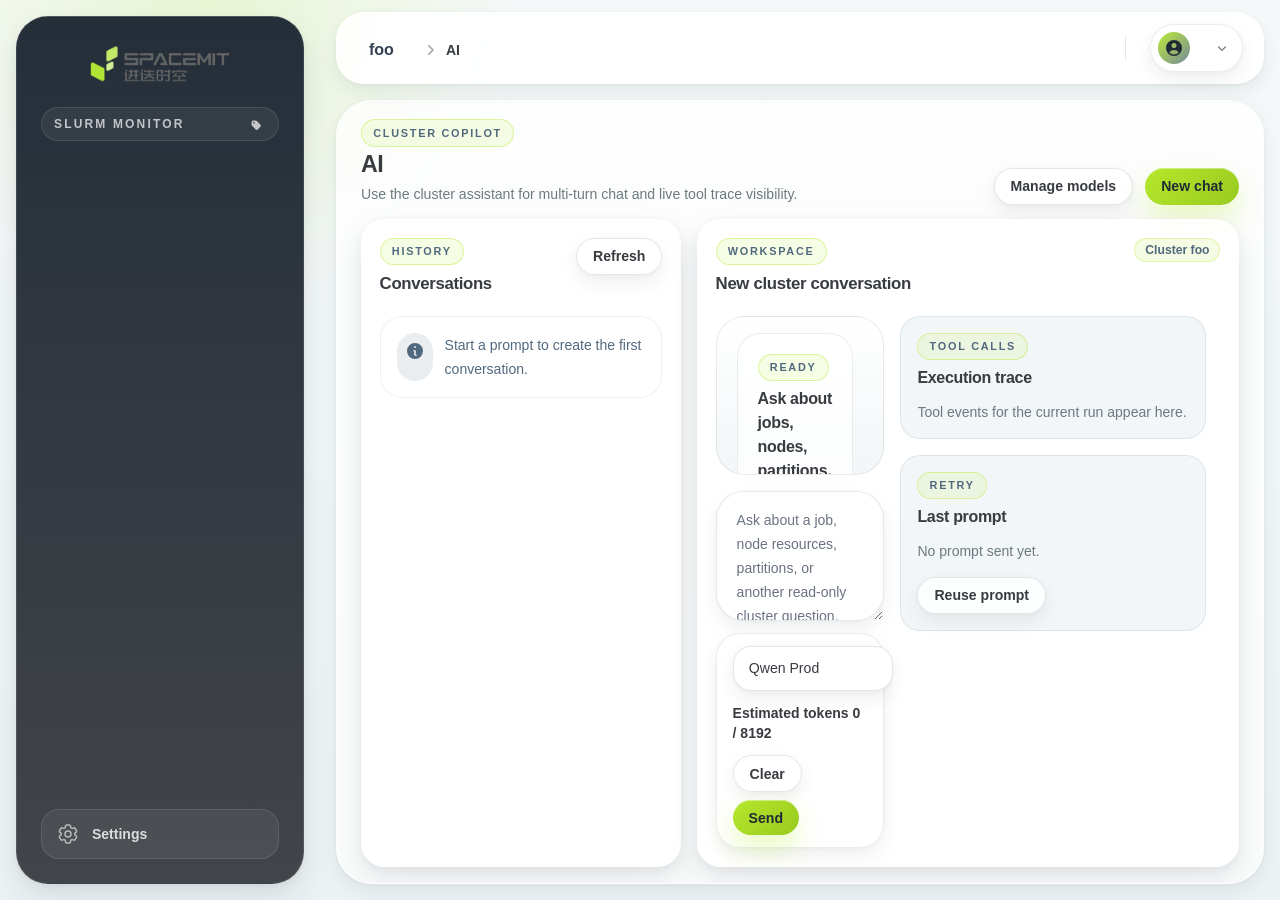
it: views/AssistantView.vue › streams a reply with the selected model
Replace the text in the text box with "Which node has the most free GPUs?" at (800, 556), box [716,491,884,621]
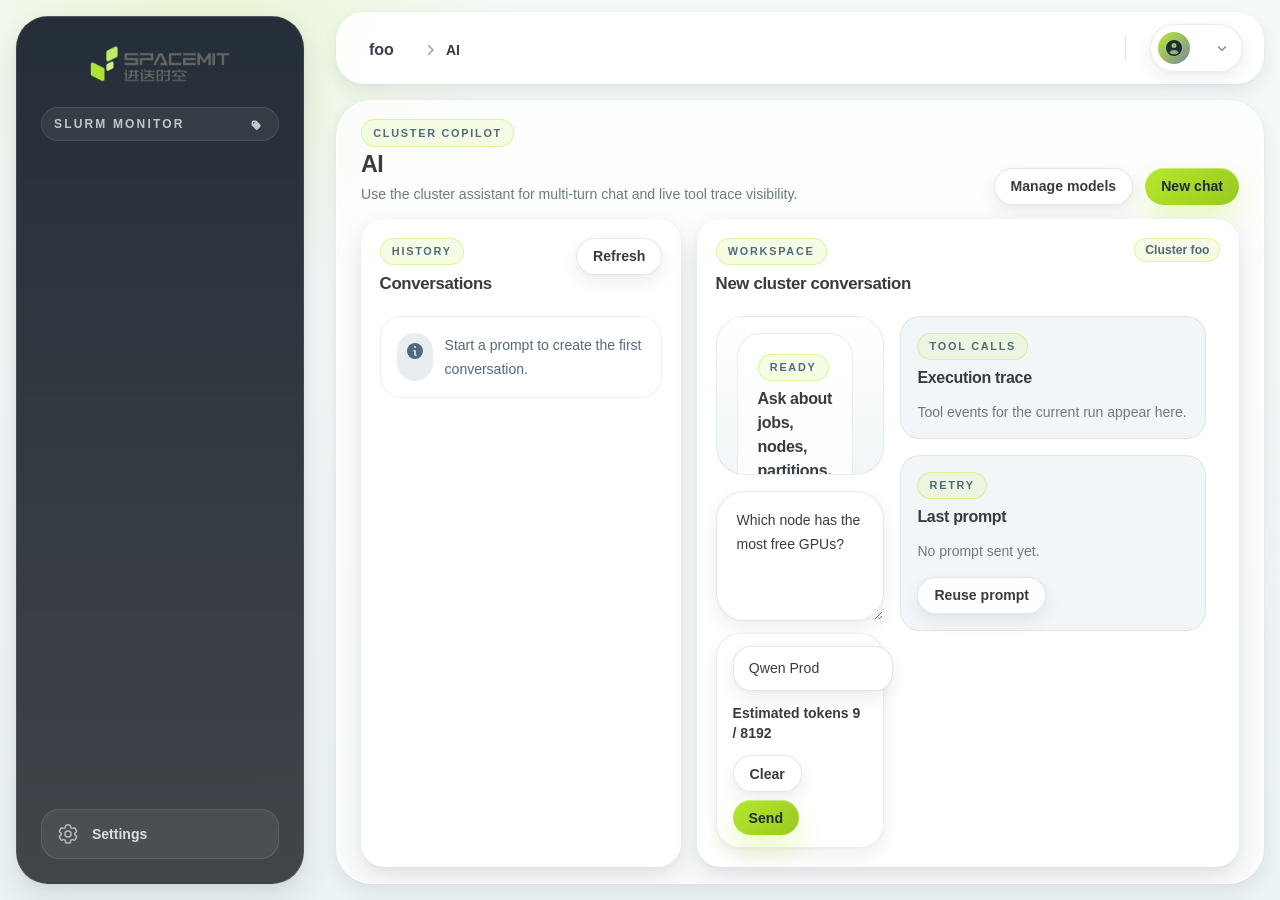
Submit the form, box [716,491,884,848]
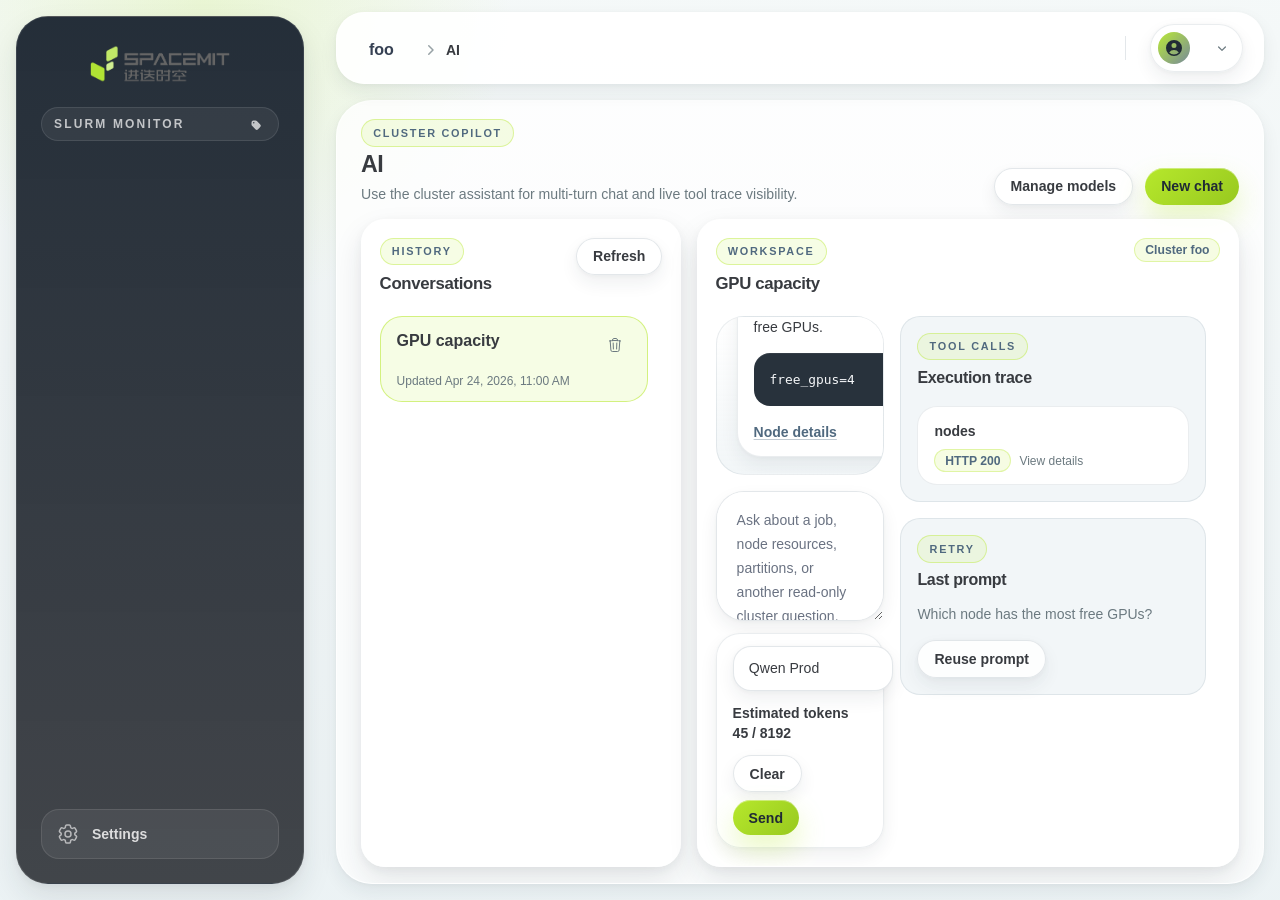
Expected: the text "nodes" is shown, [934,423,976,439]
Now the text "HTTP 200" is shown, box [934,449,1011,472]
